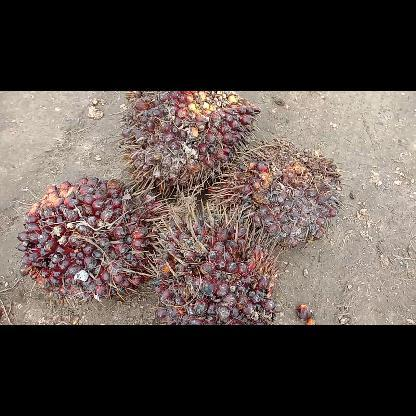TBS masak: (15, 174, 173, 306), (149, 198, 279, 324), (206, 138, 346, 246), (115, 91, 257, 195)
